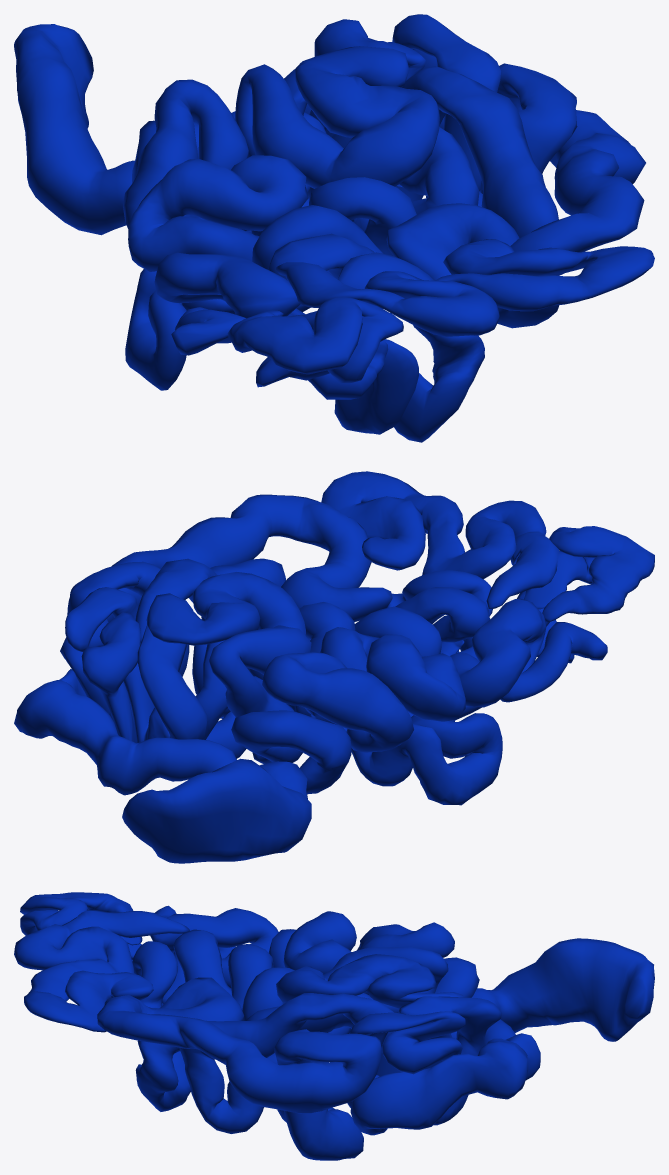
File: Small_Intestine.FBX
The picture shows the model from 3 angles, top to bottom: view 1: azimuth 30°, elevation 25°; view 2: azimuth 150°, elevation 25°; view 3: azimuth 270°, elevation 25°; orthographic projection. The views are drawn at different scales.
Parts seen in each view (by area): view 1: Small_intestine-Snapshot; view 2: Small_intestine-Snapshot; view 3: Small_intestine-Snapshot.
Boxes of the visible parts, x1,y1,x2,y2 form: Small_intestine-Snapshot: (14,14,654,442); Small_intestine-Snapshot: (14,471,654,863); Small_intestine-Snapshot: (14,892,654,1160).
Size of the model in its own units: 185 by 79.9 by 265.
